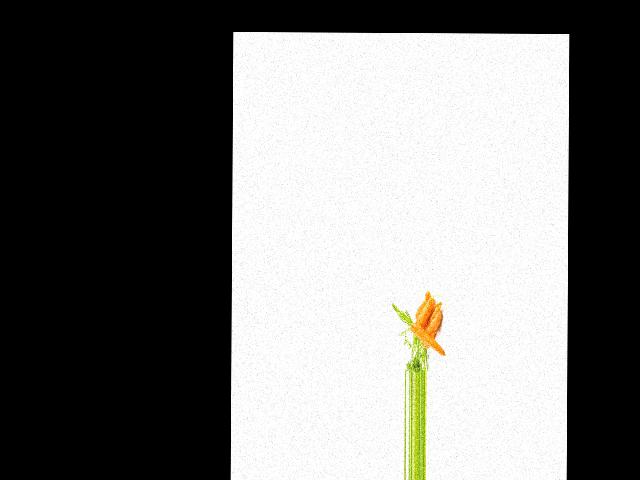carrot: (421, 304, 441, 350)
